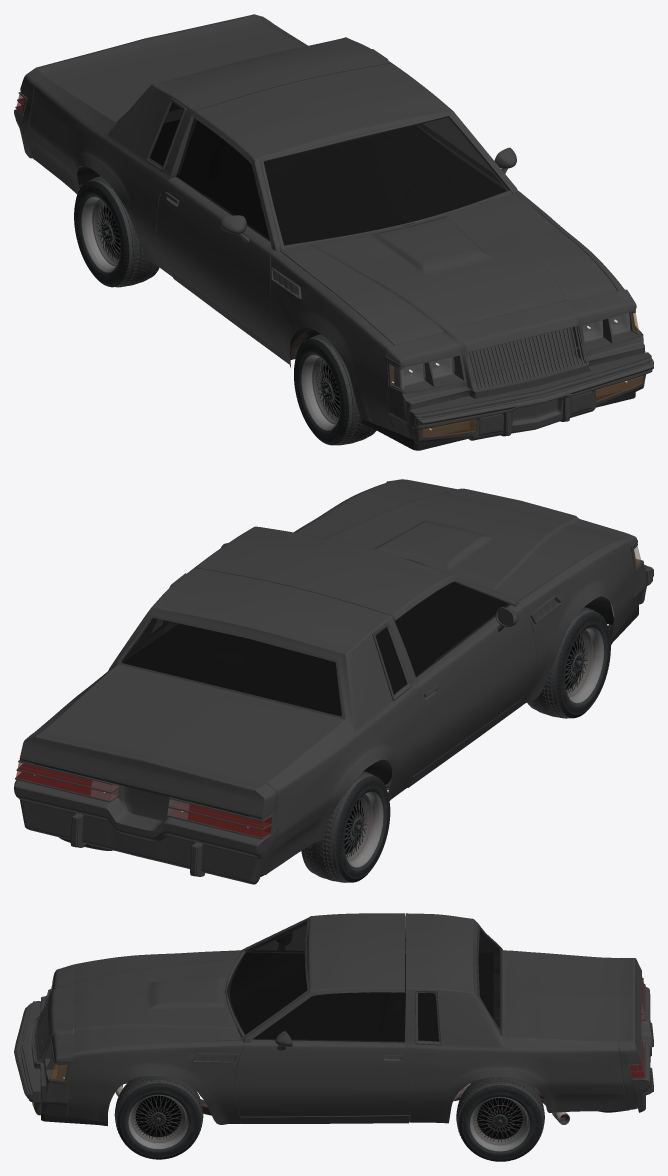
Rendered from car-model.glb.
3 views of the same model, one above another, from view 1: azimuth 30°, elevation 25°; view 2: azimuth 150°, elevation 25°; view 3: azimuth 270°, elevation 25° (orthographic). The views are drawn at different scales.
Visible parts, largest first — view 1: Object_2, Object_24, Object_14, Object_26, Object_15, Object_16; view 2: Object_2, Object_24, Object_14, Object_26, Object_15, Object_16; view 3: Object_2, Object_24, Object_26, Object_14, Object_16, Object_15.
Boxes of the visible parts, x1,y1,x2,y2 form: Object_2: (14,14,653,443); Object_24: (149,102,508,244); Object_14: (150,120,505,245); Object_26: (74,176,376,445); Object_15: (16,94,643,436); Object_16: (28,109,635,450); Object_2: (14,479,653,884); Object_24: (122,559,510,716); Object_14: (122,582,507,715); Object_26: (301,607,610,882); Object_15: (16,546,641,837); Object_16: (59,596,638,876); Object_2: (14,913,653,1124); Object_24: (225,916,500,1042); Object_26: (114,1076,544,1161); Object_14: (230,953,493,1041); Object_16: (41,974,637,1131); Object_15: (32,977,644,1106).
Bounding box in the file's own units: 2.19 × 1.54 × 5.31.
Materials: 8 (3 with a texture image).
